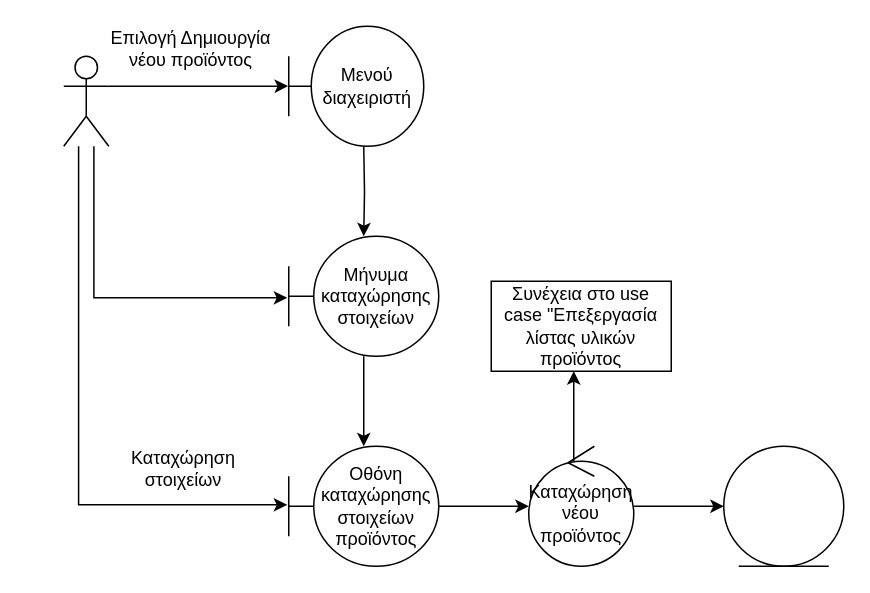
Some shapes in this 870 by 593 pixel diagram are drawn without their labels. The box of each missing label's shape, as (x1, y1, x2, y2) in pixels:
ΔΙΑΧΕΙΡΙΣΤΗΣ: (62, 55, 109, 146)
Προϊόν: (722, 445, 844, 566)
